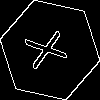X: (25, 25, 77, 71)
